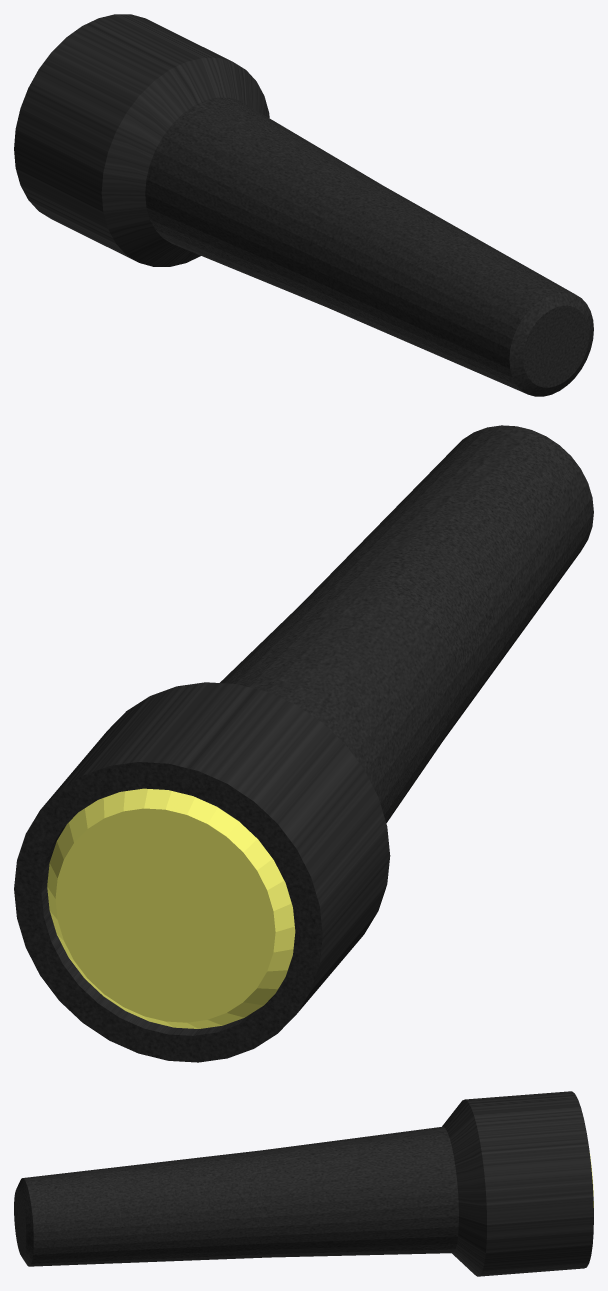
File: torch.gltf
3 views of the same model, one above another, from view 1: azimuth 30°, elevation 25°; view 2: azimuth 150°, elevation 25°; view 3: azimuth 270°, elevation 25° (orthographic). The views are drawn at different scales.
Parts seen in each view (by area): view 1: Cylinder; view 2: Cylinder; view 3: Cylinder.
Boxes of the visible parts, x1,y1,x2,y2 form: Cylinder: (14,14,593,396); Cylinder: (14,425,593,1062); Cylinder: (14,1091,593,1276).
Bounding box in the file's own units: 0.8238 × 0.6322 × 2.06.
Materials: 2 (1 with a texture image).
